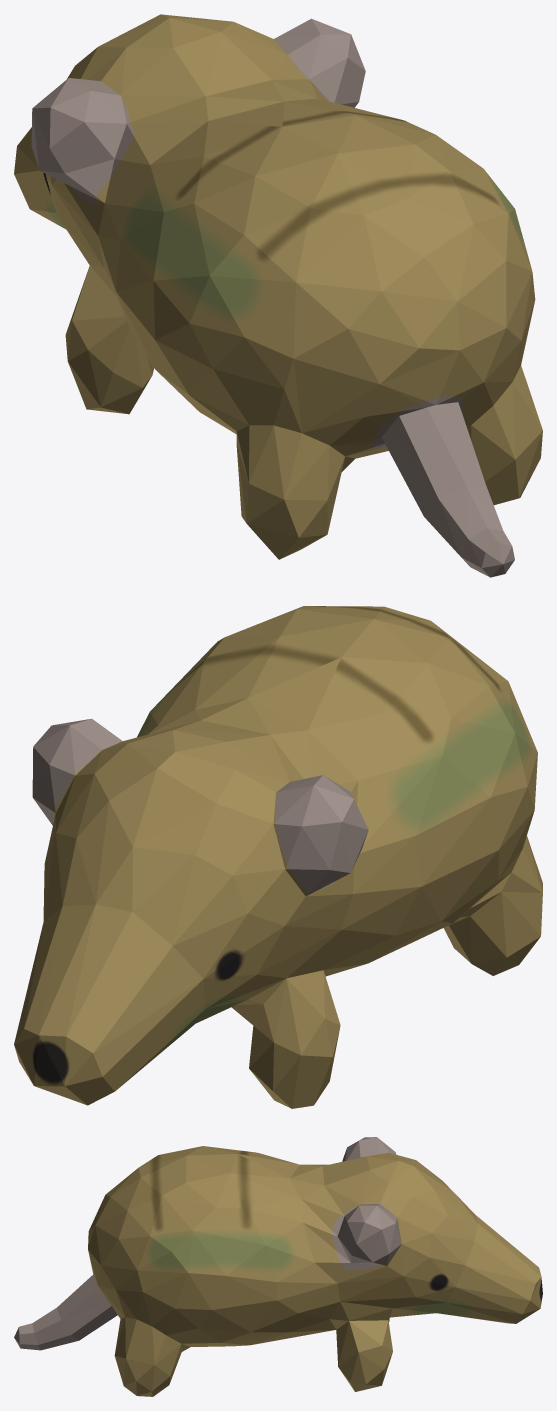
The model's file is animal_wasterat_blob.obj.
The picture shows the model from 3 angles, top to bottom: view 1: azimuth 30°, elevation 25°; view 2: azimuth 150°, elevation 25°; view 3: azimuth 270°, elevation 25°; orthographic projection. The views are drawn at different scales.
Visible parts, largest first — view 1: animal_wasterat_blob; view 2: animal_wasterat_blob; view 3: animal_wasterat_blob.
Boxes of the visible parts, bbox=[...] form: animal_wasterat_blob: bbox=[14, 14, 542, 577]; animal_wasterat_blob: bbox=[14, 606, 542, 1108]; animal_wasterat_blob: bbox=[14, 1137, 542, 1396].
Bounding box in the file's own units: 0.395 × 0.3949 × 0.9208.
